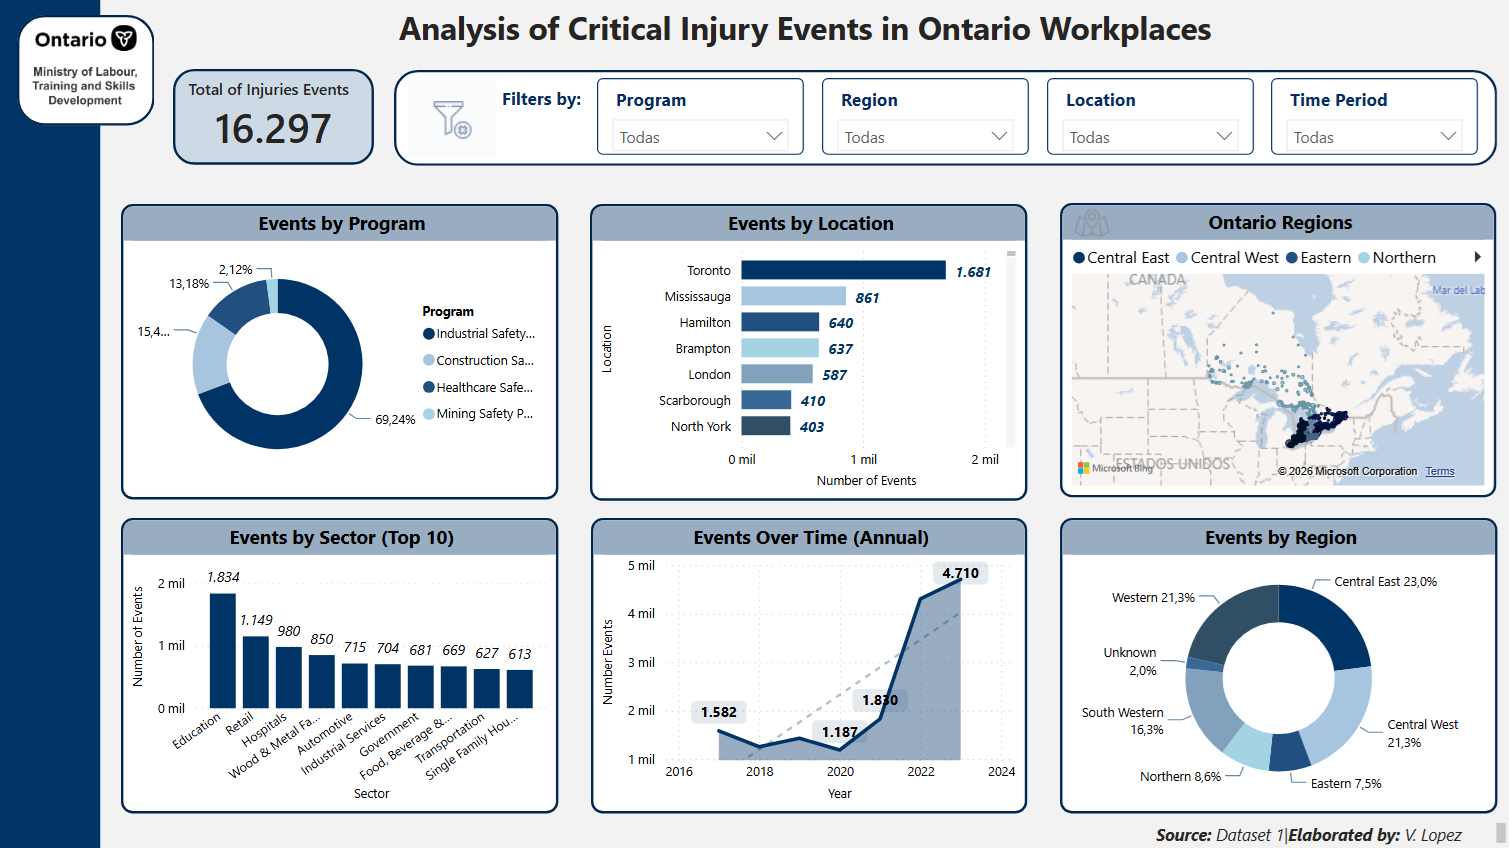

What the dashboard file says about the page in this screenshot:
{"tool":"powerbi","page":{"name":"KPI Dashboard","canvas":[1280,720],"ordinal":0},"visuals":[{"type":"donutChart","title":"Events by Program","fields":{"Category":["dataset1_transformed.program"],"Y":["CountNonNull(dataset1_transformed.program)"]},"box":[103,172.6,369.9,250],"z":0},{"type":"columnChart","title":"Events by Sector (Top 10)","fields":{"Category":["DimSector.sector_description"],"Y":["dataset1_transformed.TotalEvents_Dataset1"]},"box":[102.8,438.4,369.9,250],"z":1000},{"type":"textbox","box":[83.7,0,1196.3,56.4],"z":2000},{"type":"shape","box":[333.9,58.9,933.3,81.1],"z":3000},{"type":"slicer","fields":{"Values":["dataset1_transformed.program"]},"box":[506.4,66.4,175.5,65.5],"z":4000},{"type":"actionButton","box":[347.1,68.9,73.3,65.5],"z":5000},{"type":"slicer","fields":{"Values":["DimOntario_places.Region"]},"box":[696.4,66,175.5,65.5],"z":6000},{"type":"barChart","title":"Events by Location","fields":{"Category":["dataset1_transformed.municipality"],"Series":["dataset1_transformed.municipality"],"Y":["dataset1_transformed.TotalEvents_Dataset1"]},"box":[500.1,172.6,369.9,251],"z":7000},{"type":"donutChart","title":"Events by Region","fields":{"Category":["DimOntario_places.Region"],"Y":["FactEvents_Dataset1.Total Number of Events"]},"box":[898,438.4,369.9,250],"z":8000},{"type":"card","title":"Total of Injuries Events","fields":{"Values":["dataset1_transformed.TotalEvents_Dataset1"]},"box":[147.2,58.3,170,81.1],"z":9000},{"type":"slicer","fields":{"Values":["Calendar.Year"]},"box":[1076.4,66,175.5,64.5],"z":10000},{"type":"lineChart","title":"Events Over Time (Annual)","fields":{"Category":["Calendar.Year Hierarchy.Year","Calendar.Year Hierarchy.Month Name"],"Y":["dataset1_transformed.TotalEvents_Dataset1"]},"box":[500.9,438.4,368.9,250],"z":11000},{"type":"textbox","box":[973.7,690.9,306.1,28.3],"z":12000},{"type":"shape","box":[15,12.4,116.4,93.5],"z":13000},{"type":"image","box":[15,0.9,116.4,112.9],"z":14000},{"type":"slicer","fields":{"Values":["ontario_places_unified.Place"]},"box":[886.4,66,175.5,65.5],"z":16000},{"type":"textbox","box":[420.4,68,104.9,44.2],"z":17000},{"type":"azureMap","title":"Ontario Regions","fields":{"Category":["DimOntario_places.Place"],"Series":["DimOntario_places.Region"],"Size":["FactEvents_Dataset1.Total Number of Events"],"X":["Avg(DimOntario_places.Longitude)"],"Y":["Avg(DimOntario_places.Latitude)"]},"box":[898,172.1,368.8,249],"z":18000},{"type":"actionButton","box":[906,170,37.3,37.3],"z":20000}]}

Visuals, with their boxes in screenshot pixels (x1, y1, x2, y2), scaled from the page's 1280x720 canvas onto the 1509x848 screenshot:
"Events by Program" donutChart: detection(121, 203, 558, 498)
"Events by Sector (Top 10)" columnChart: detection(121, 516, 557, 811)
textbox: detection(99, 0, 1508, 66)
shape: detection(394, 69, 1494, 165)
slicer - dataset1_transformed.program: detection(597, 78, 804, 155)
actionButton: detection(409, 81, 496, 158)
slicer - DimOntario_places.Region: detection(821, 78, 1028, 155)
"Events by Location" barChart: detection(590, 203, 1026, 499)
"Events by Region" donutChart: detection(1059, 516, 1495, 811)
"Total of Injuries Events" card: detection(174, 69, 374, 164)
slicer - Calendar.Year: detection(1269, 78, 1476, 154)
"Events Over Time (Annual)" lineChart: detection(591, 516, 1025, 811)
textbox: detection(1148, 814, 1508, 847)
shape: detection(18, 15, 155, 125)
image: detection(18, 1, 155, 134)
slicer - ontario_places_unified.Place: detection(1045, 78, 1252, 155)
textbox: detection(496, 80, 619, 132)
"Ontario Regions" azureMap: detection(1059, 203, 1493, 496)
actionButton: detection(1068, 200, 1112, 244)
